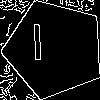I: (29, 24, 46, 70)
